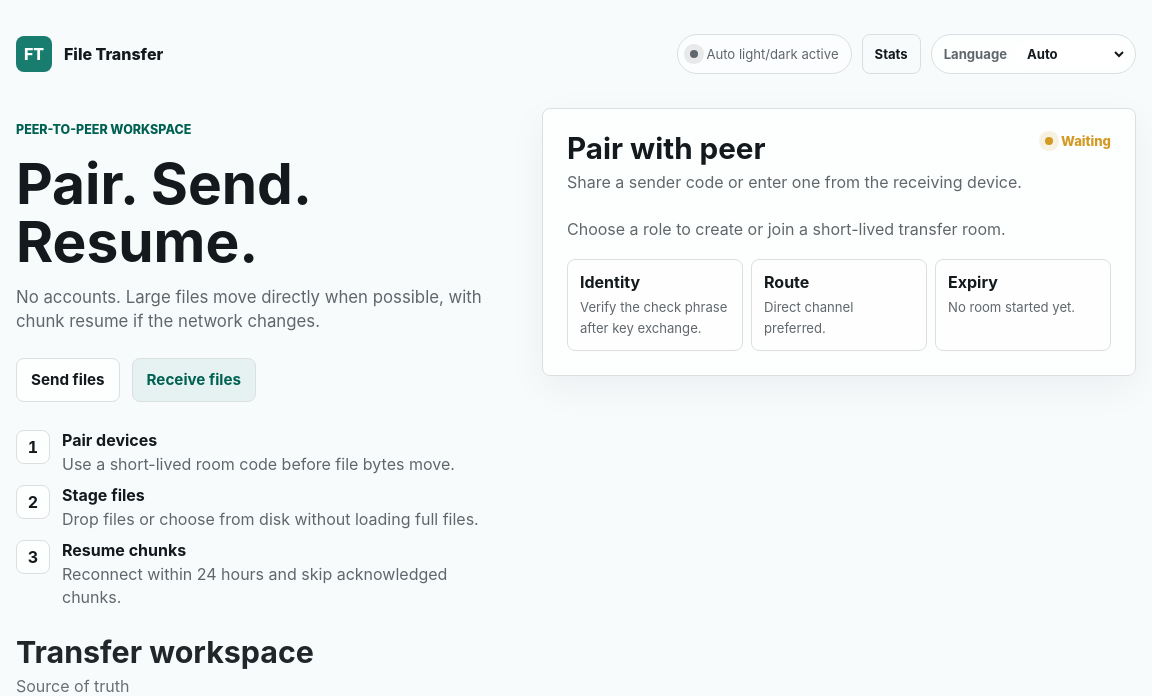
Scenario: App › shows room expiry as a live countdown
Click the button "Send files". click: (68, 380)
box: [16,358,120,402]
Wait 1000 ms
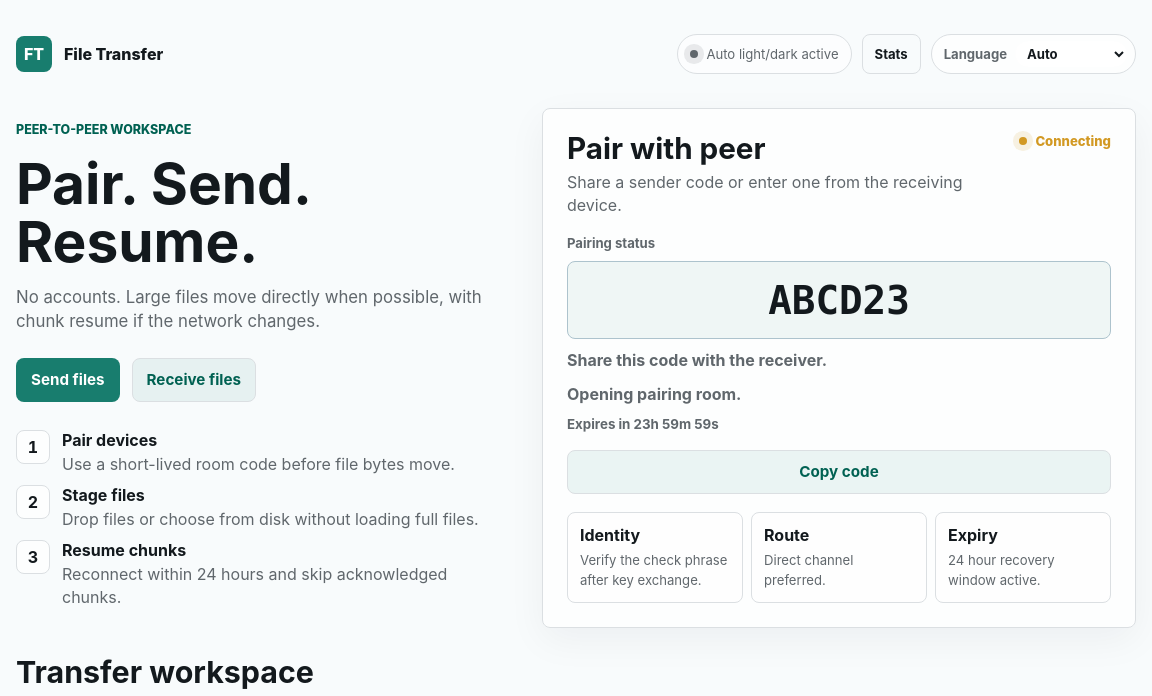
Check: the text "Expires in 23h 59m 59s" is shown, box [567,416,719,432]
